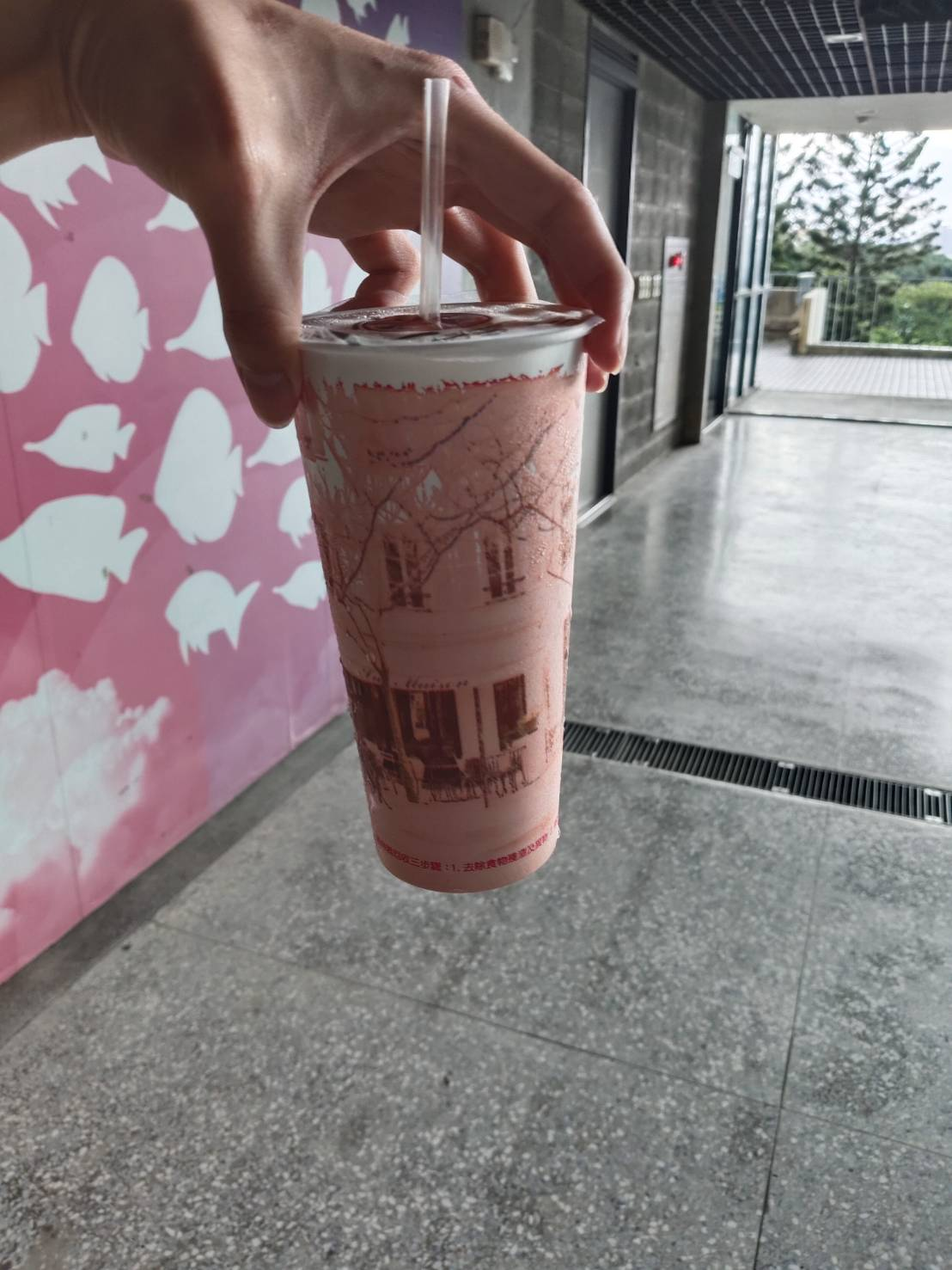paper: (266, 283, 669, 940)
plastic: (390, 61, 493, 329)
